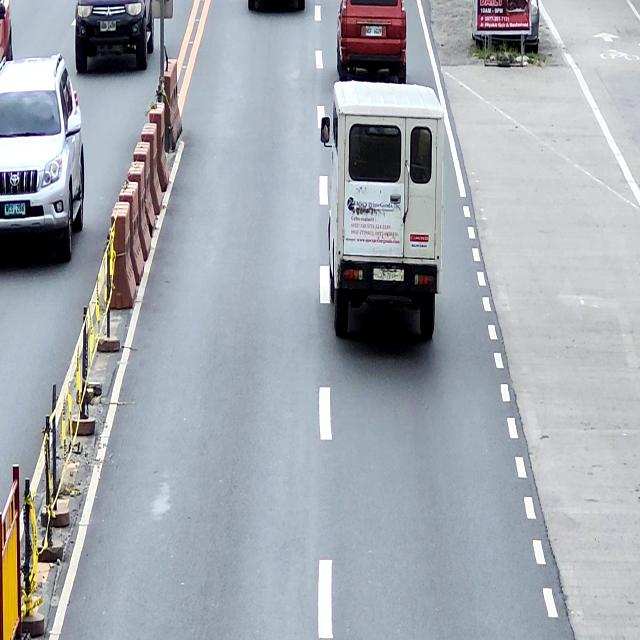Car: (321, 81, 445, 342), (0, 56, 85, 264), (75, 0, 156, 78), (336, 0, 407, 85)
License-Plate: (373, 268, 404, 282), (4, 204, 26, 215), (365, 26, 382, 36), (101, 21, 116, 31)
